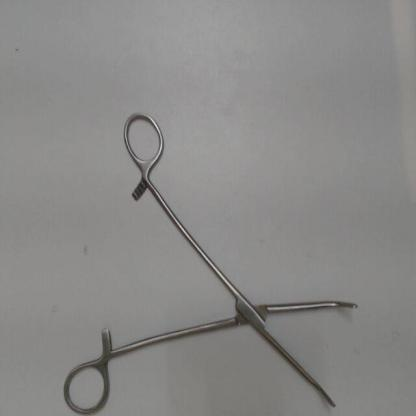Lahey Forceps: (58, 106, 363, 414)
